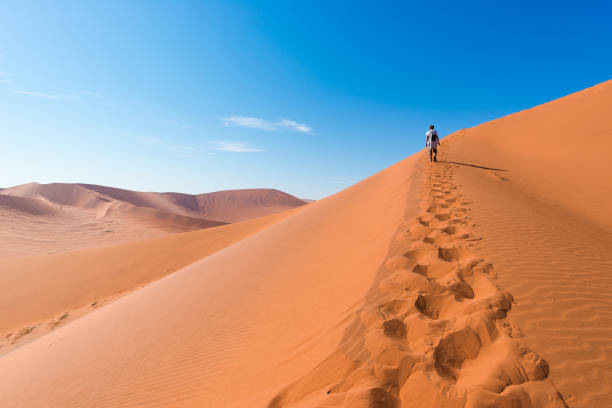human_footprint: (269, 163, 565, 407)
